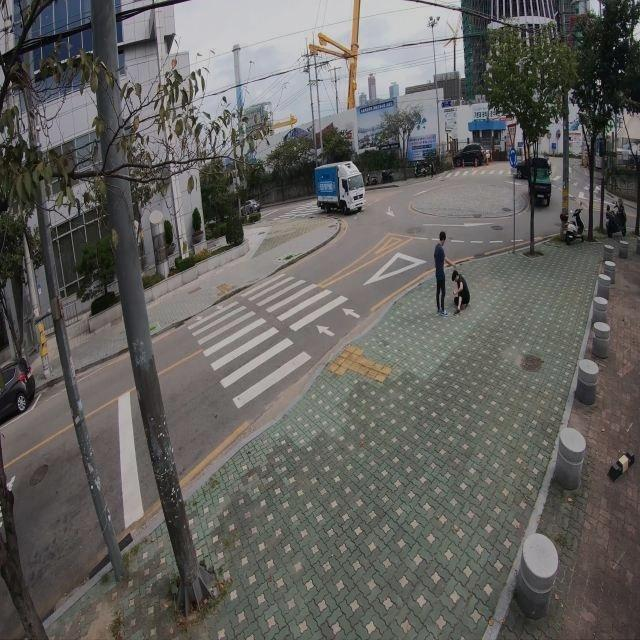non-fight: (428, 230, 451, 316), (452, 271, 469, 315)
